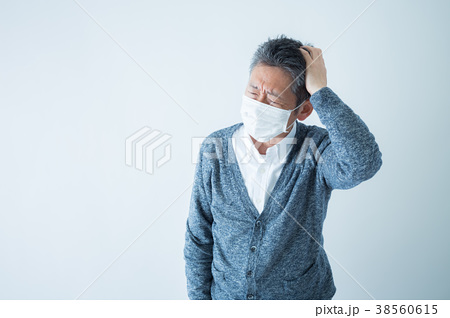mask: (238, 97, 291, 147)
